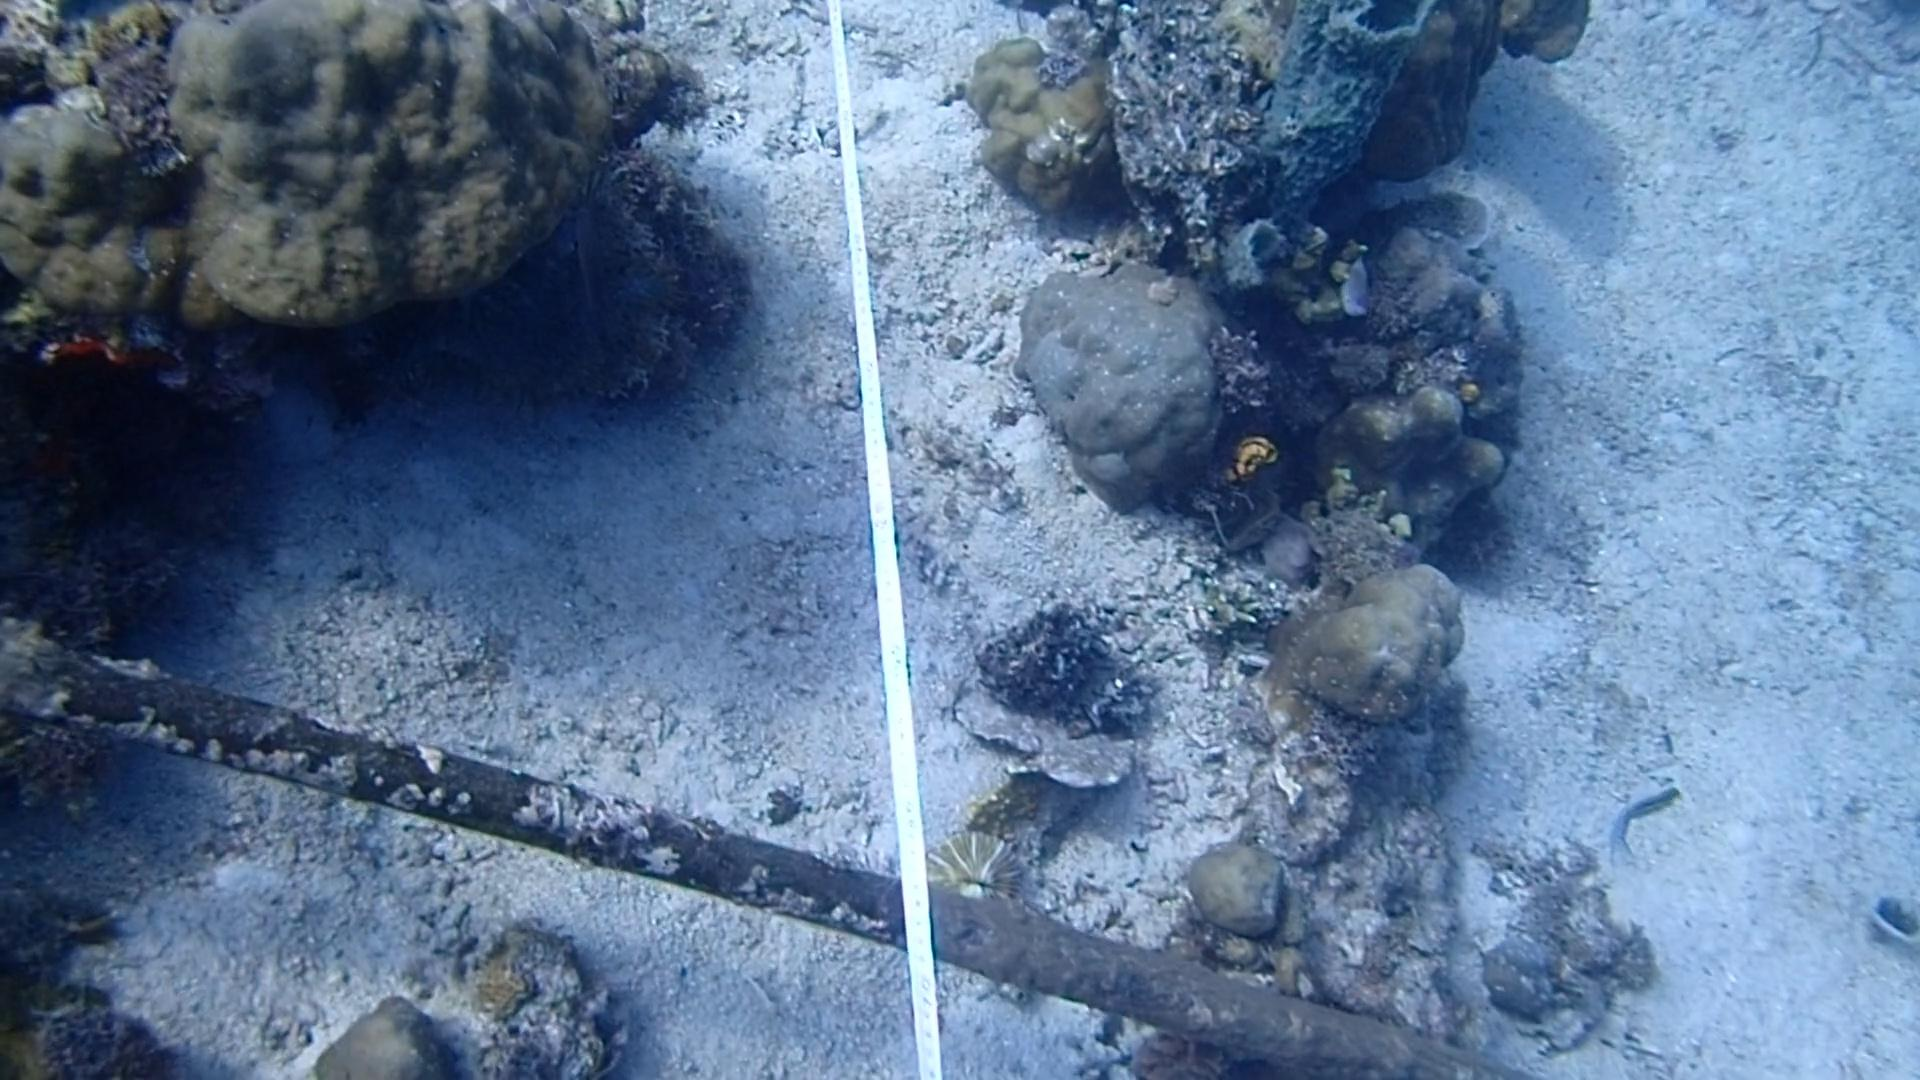Blue Nose Fish: (1333, 252, 1382, 320)
Dark Fish: (555, 204, 622, 326)
Striped Fish: (1590, 777, 1689, 872)
